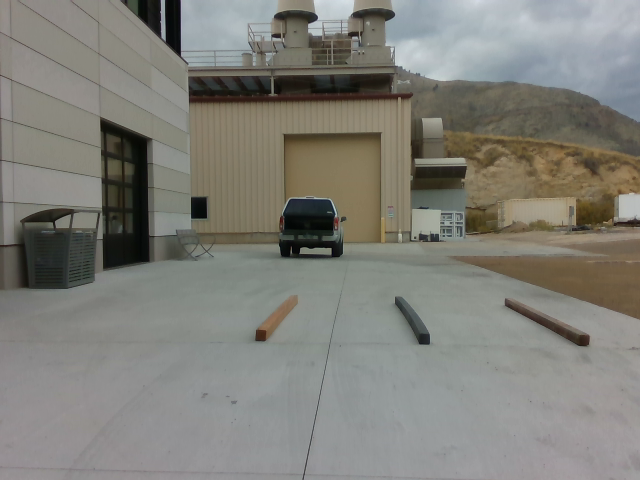dunnage: (251, 289, 596, 350)
